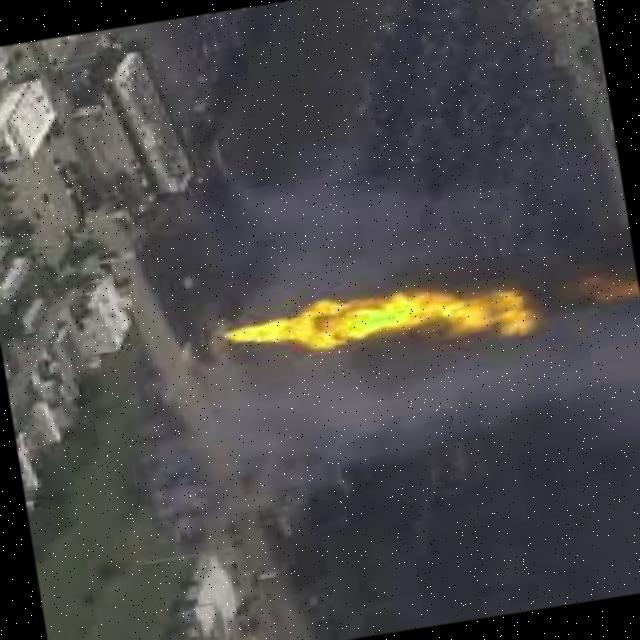explosion: (116, 178, 599, 454)
